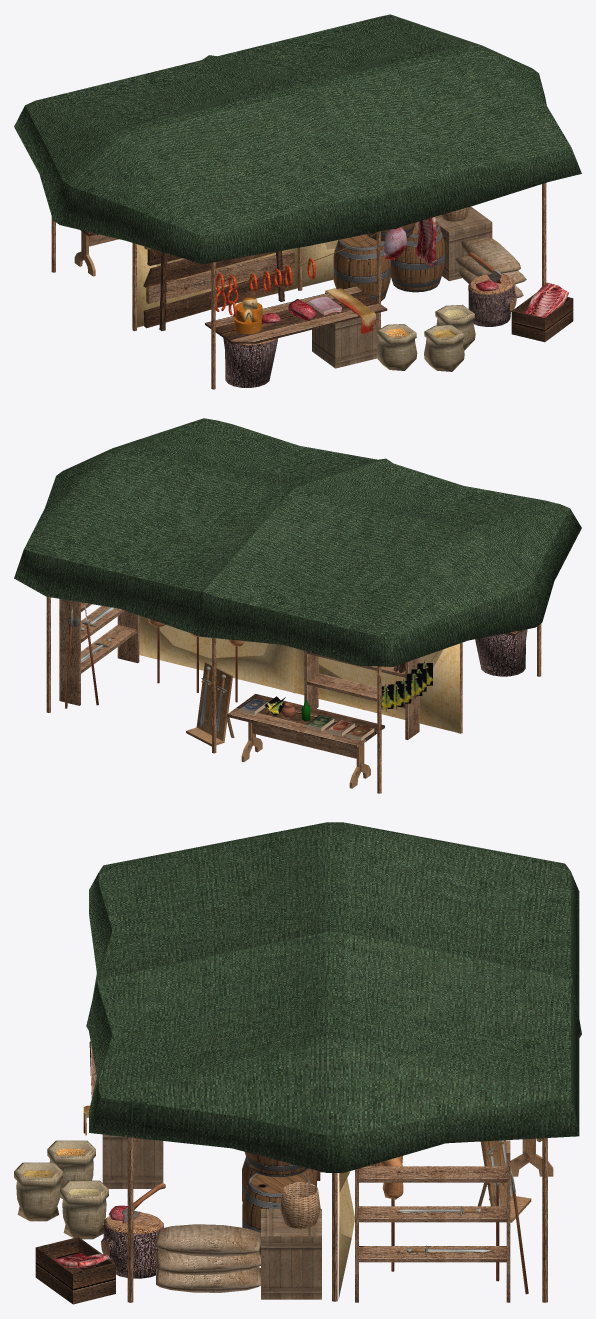
File: Market.glb
3 renders of one model, top to bottom at view 1: azimuth 30°, elevation 25°; view 2: azimuth 150°, elevation 25°; view 3: azimuth 270°, elevation 25°, orthographic. The views are drawn at different scales.
Parts seen in each view (by area): view 1: FabricRoof, Cube.009, Cube.001, FabricWall, Cylinder.003, WoodenBox, Construct, Cylinder.001, Stump_1, Stump_2, WoodenBox.001, OpenBox (+9 smaller); view 2: FabricRoof, FabricWall, Shelf.001, Shelf, Cube.013, Construct, Stump_1, SwordStand, Cube.014, Cube.012; view 3: FabricRoof, Shelf.001, WoodenBox.001, OpenBox, Sack.002, Construct, WoodenBox, Stump_2, SackOfWheat, SackOfRice, Sack, Sack.001 (+8 smaller).
Part boxes in pixels (<box>): FabricRoof: <box>14,14,581,264</box>; Cube.009: <box>143,246,294,330</box>; Cube.001: <box>205,286,387,343</box>; FabricWall: <box>132,240,337,328</box>; Cylinder.003: <box>333,234,390,301</box>; WoodenBox: <box>312,313,378,368</box>; Construct: <box>51,183,546,389</box>; Cylinder.001: <box>391,220,444,292</box>; Stump_1: <box>223,338,277,387</box>; Stump_2: <box>468,273,516,326</box>; WoodenBox.001: <box>435,206,492,281</box>; OpenBox: <box>511,293,573,342</box>; FabricRoof: <box>14,418,581,666</box>; FabricWall: <box>139,615,459,733</box>; Shelf.001: <box>59,599,139,705</box>; Shelf: <box>304,651,419,739</box>; Cube.013: <box>227,694,384,748</box>; Construct: <box>46,597,541,793</box>; Stump_1: <box>475,629,527,676</box>; SwordStand: <box>186,662,234,746</box>; Cube.014: <box>252,723,356,758</box>; Cube.012: <box>241,722,370,788</box>; FabricRoof: <box>86,822,581,1172</box>; Shelf.001: <box>355,1140,510,1302</box>; WoodenBox.001: <box>261,1209,321,1299</box>; OpenBox: <box>35,1237,115,1304</box>; Sack.002: <box>154,1224,260,1256</box>; Construct: <box>127,1137,547,1302</box>; WoodenBox: <box>102,1134,163,1188</box>; Stump_2: <box>101,1212,163,1278</box>; SackOfWheat: <box>14,1162,62,1221</box>; SackOfRice: <box>60,1180,108,1239</box>; Sack: <box>156,1267,260,1292</box>; Sack.001: <box>154,1250,260,1275</box>.
Size of the model in its own units: 8.82 by 3.57 by 6.89.
Materials: 31 (30 with a texture image).
